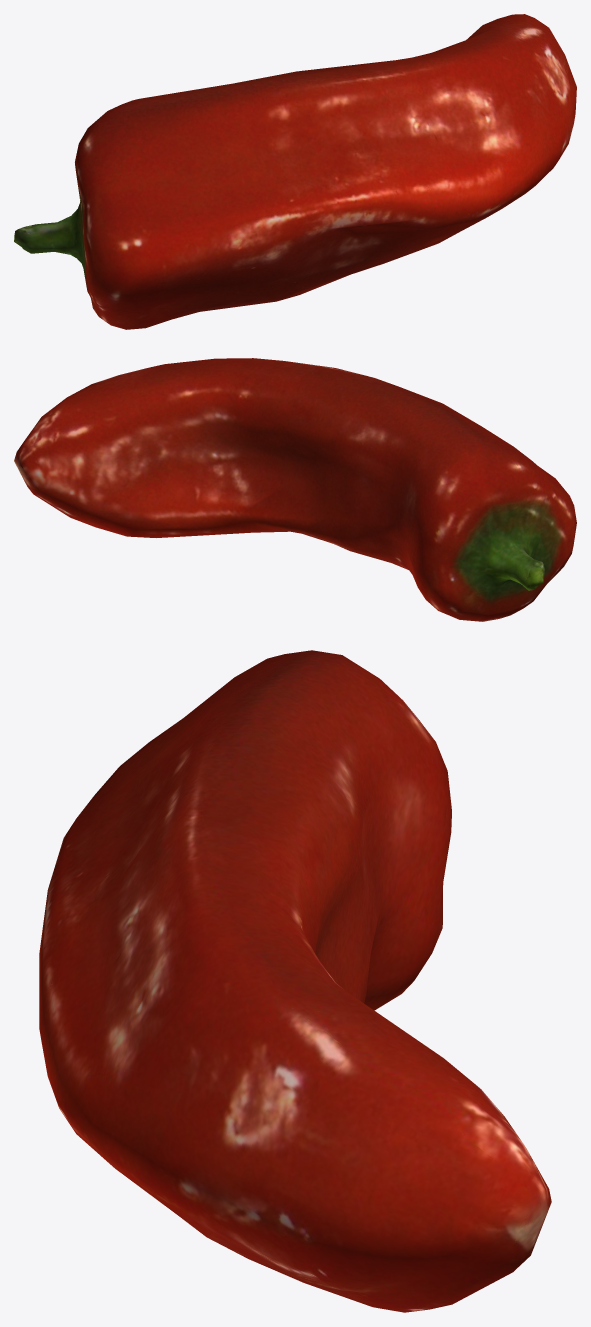
3 views of the same model, one above another, from view 1: azimuth 30°, elevation 25°; view 2: azimuth 150°, elevation 25°; view 3: azimuth 270°, elevation 25° (orthographic). The views are drawn at different scales.
Parts seen in each view (by area): view 1: 09_pepper; view 2: 09_pepper; view 3: 09_pepper.
Part boxes in pixels (x1,y1,x2,y2): 09_pepper: [14, 14, 576, 329]; 09_pepper: [14, 358, 576, 621]; 09_pepper: [39, 650, 551, 1312].
Size of the model in its own units: 0.9968 by 0.3717 by 0.4437.
Materials: 1 (1 with a texture image).
